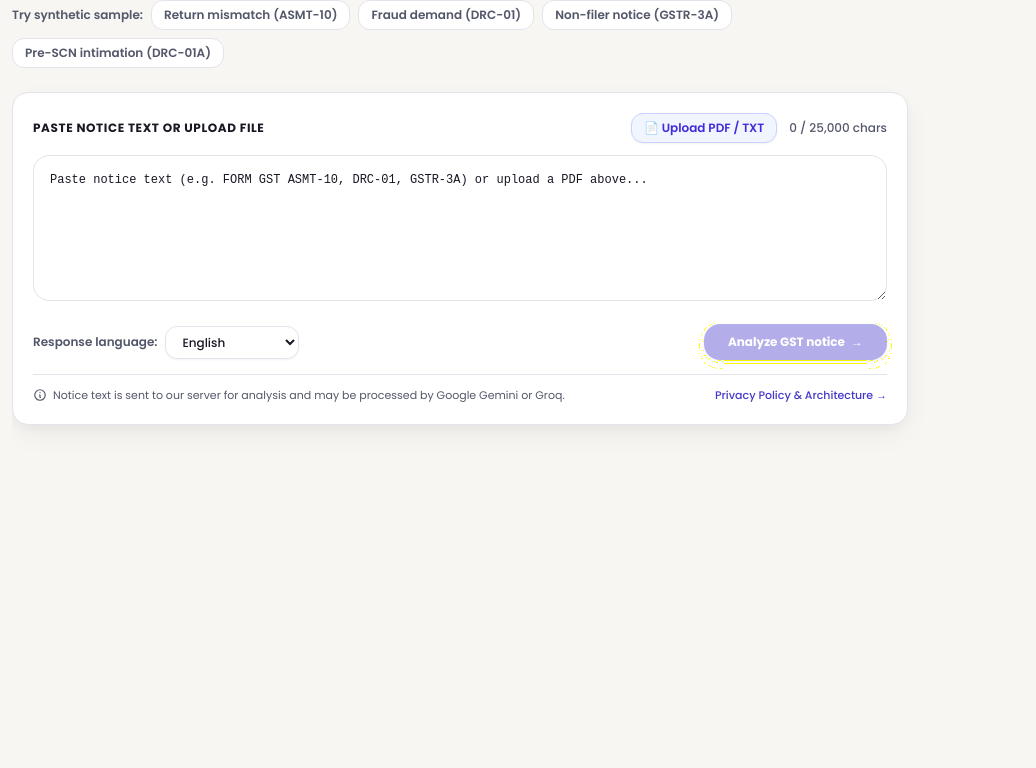
Test: NoticeAnalyzer Component › submits notice and renders receipt summary, demand in ₹, and citations
Click the button with test id "sample-asmt10-btn" at (251, 15), box [151,0,350,30]
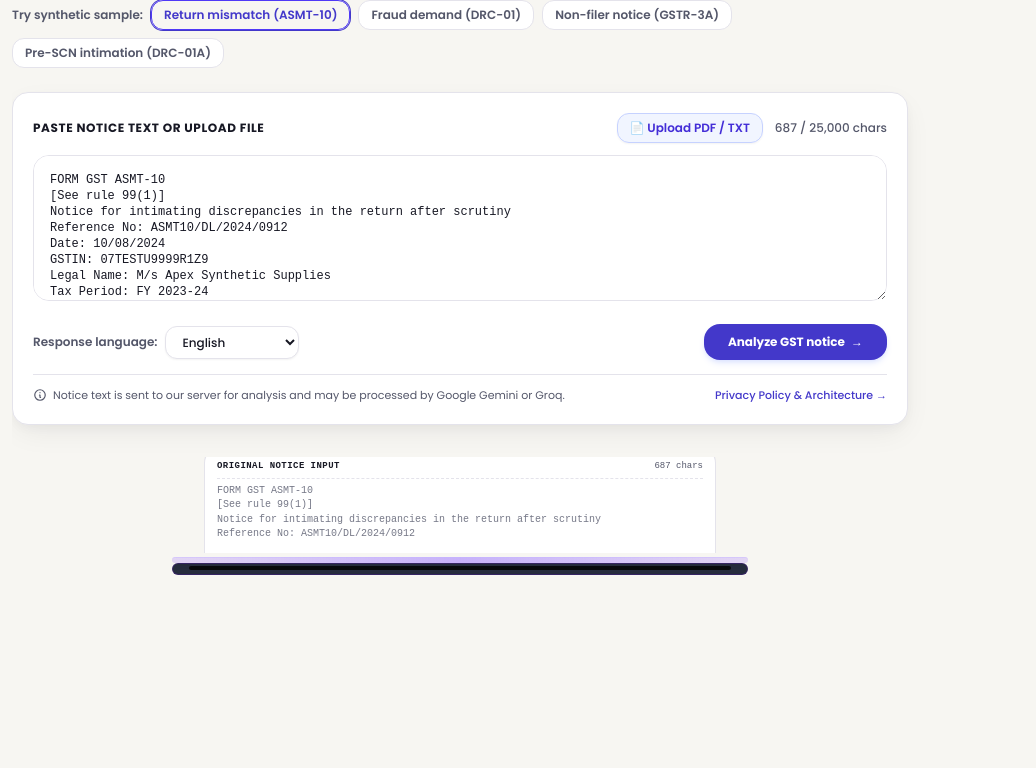
Click the button with test id "analyze-notice-btn" at (795, 342), box [704,324,887,360]
(page scrolled)
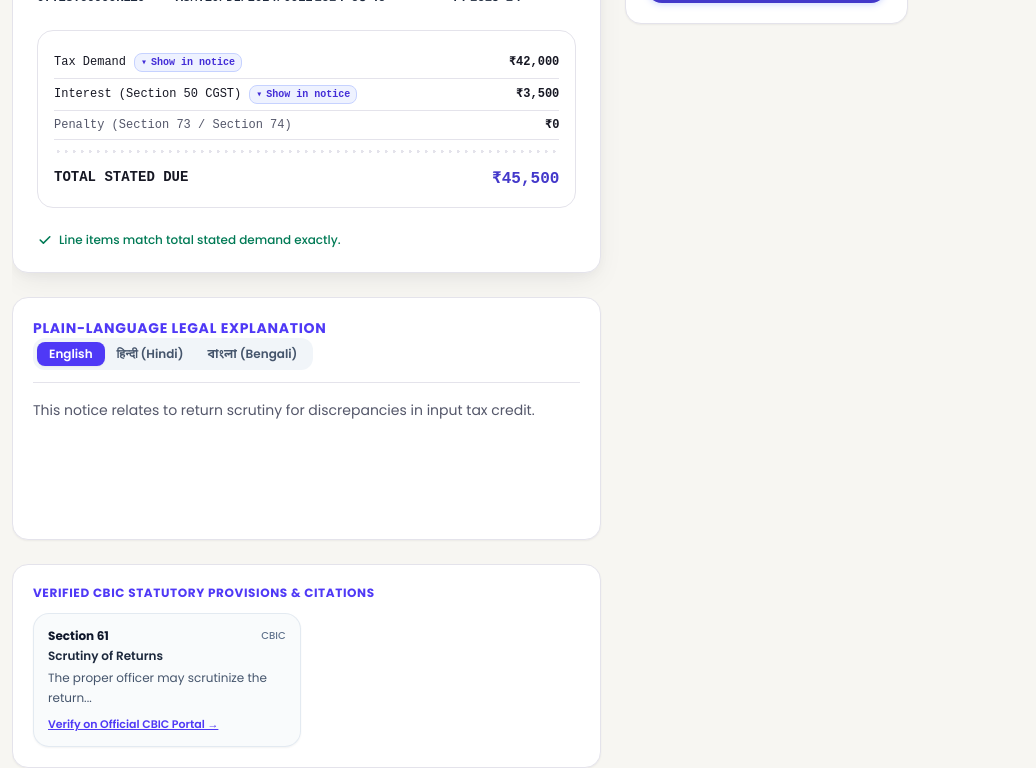
Check: the text with test id "amount-total" reads "₹45,500", box [492,167,559,191]
Check: the element with test id "consistent-badge" is shown, box [37,232,341,248]
Check: the element with test id "statutory-citations" is shown, box [12,564,601,767]
